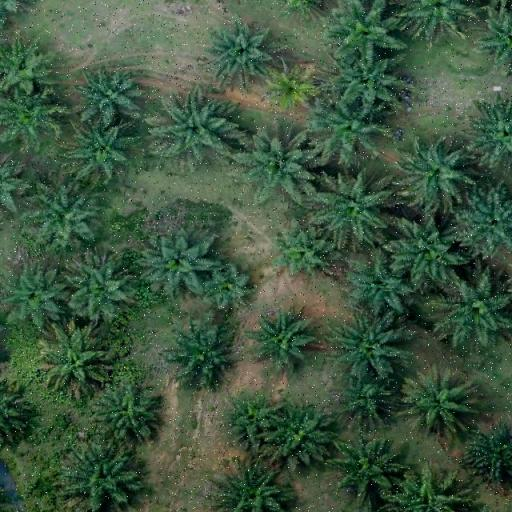Ganoderma: (265, 68, 312, 107)
